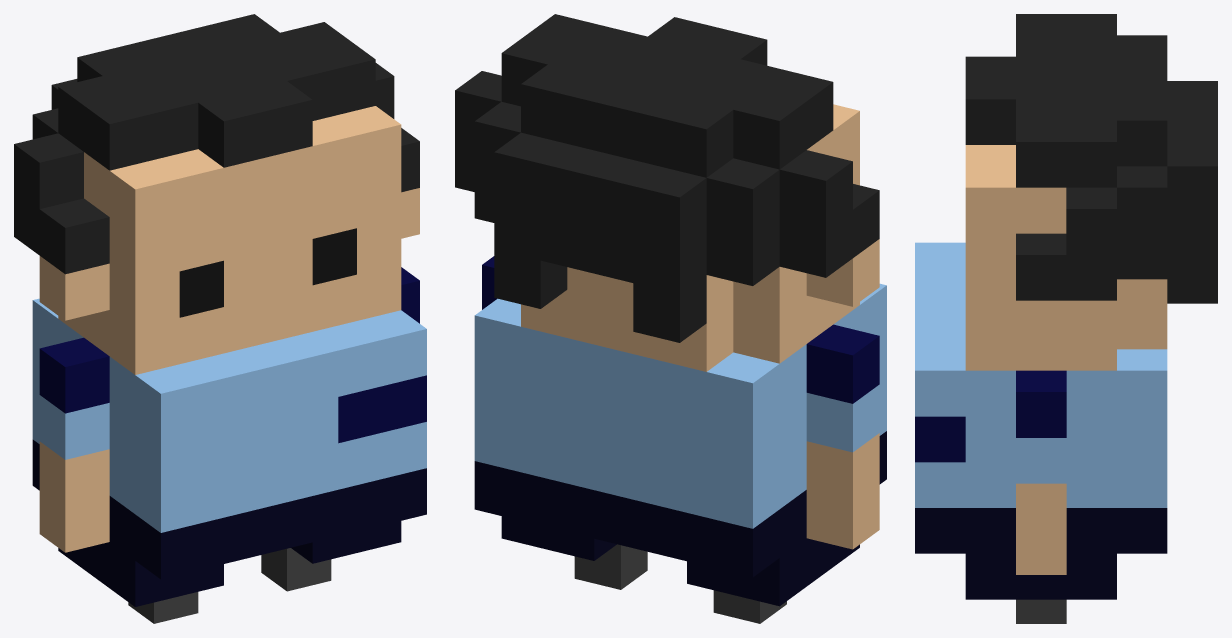
Rendered from chr_paramedic2.obj.
3 views of the same model, side by side, from view 1: azimuth 30°, elevation 25°; view 2: azimuth 150°, elevation 25°; view 3: azimuth 270°, elevation 25° (orthographic). The views are drawn at different scales.
Bounding box in the file's own units: 0.8 × 1.1 × 0.6.
Materials: 1 (1 with a texture image).
